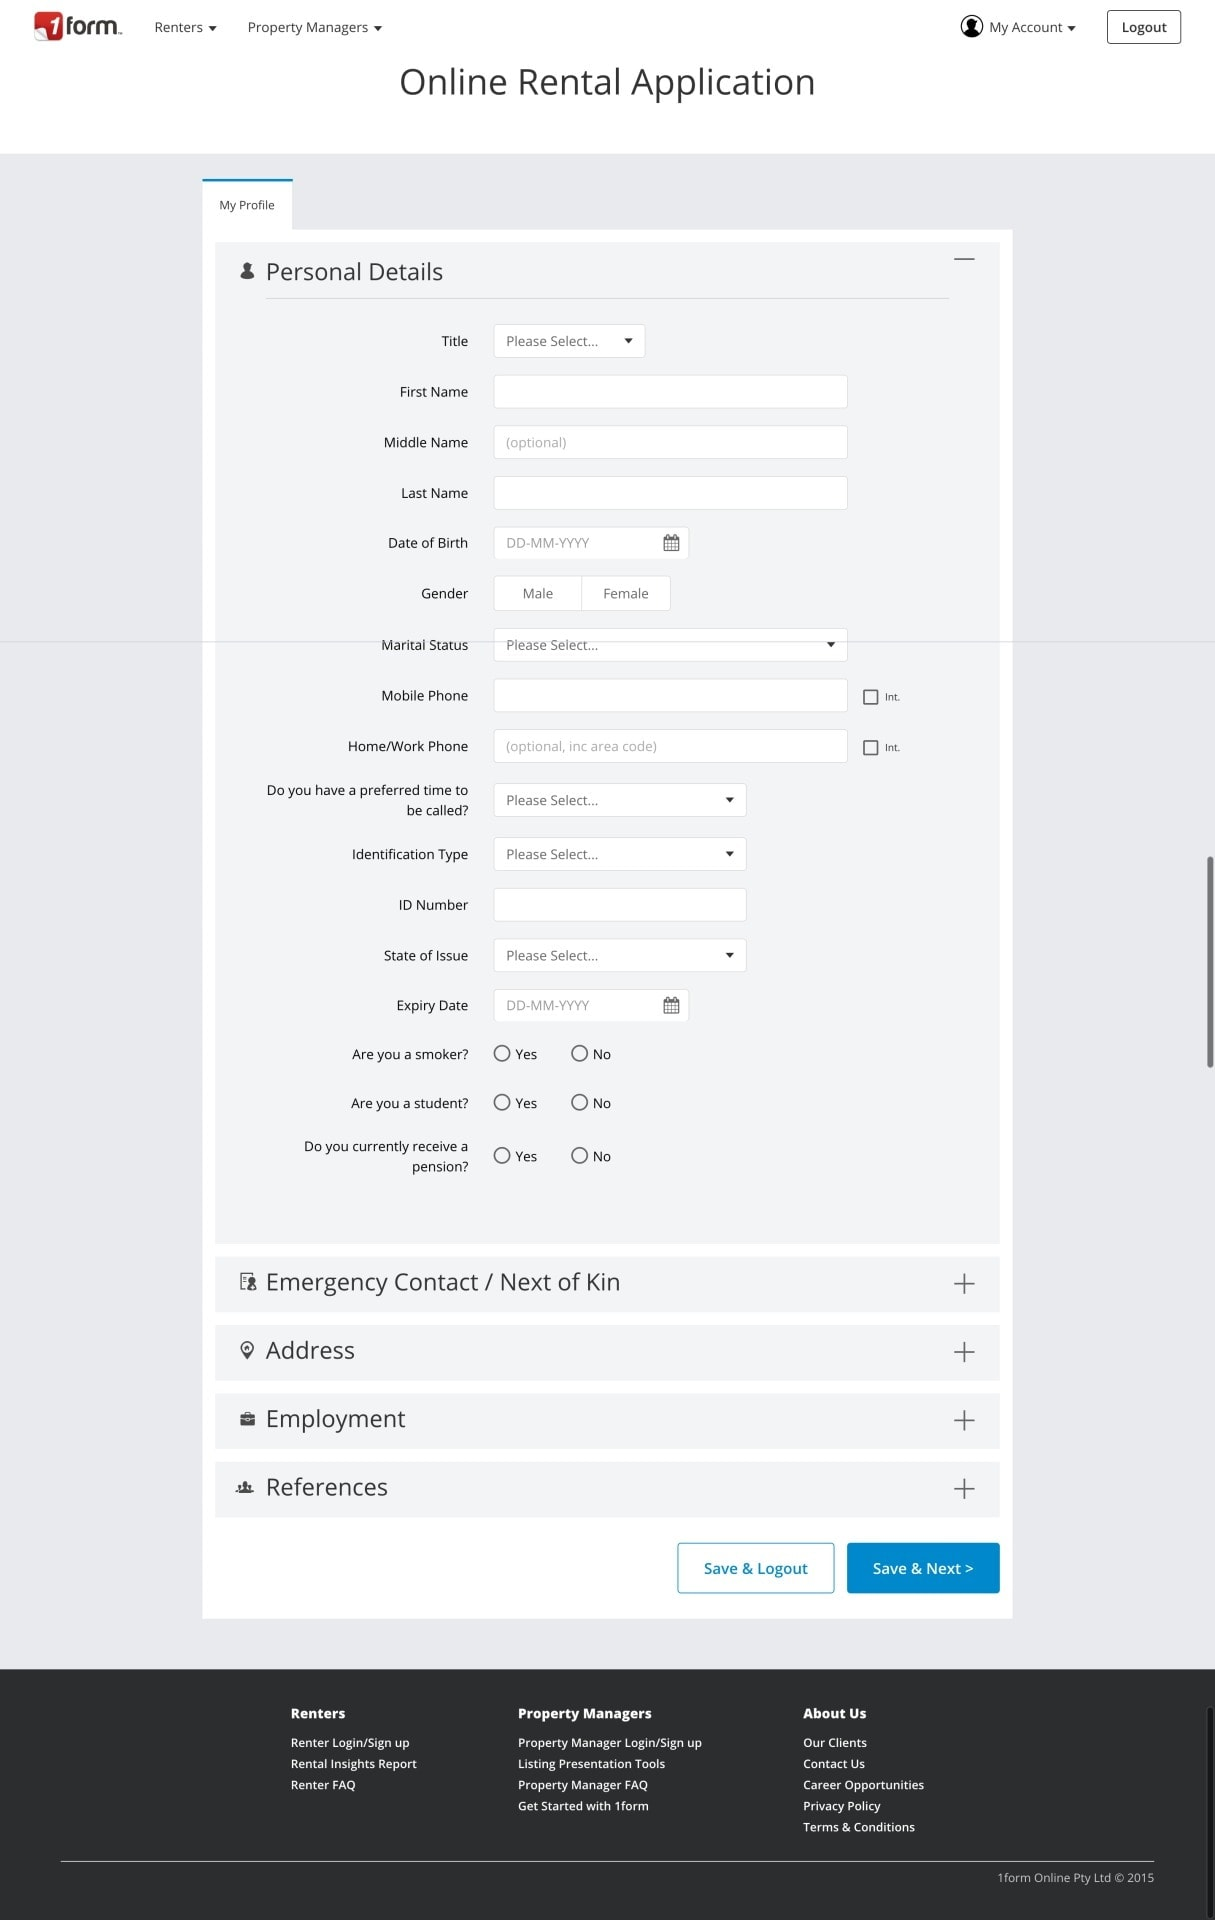_form_: (258, 722, 865, 1128), (258, 771, 763, 1183), (368, 305, 864, 719), (641, 1482, 1020, 1661)
button: (675, 1541, 836, 1595), (845, 1542, 1001, 1595), (582, 574, 676, 613), (493, 572, 585, 612)
checkbox: (862, 737, 885, 758), (861, 689, 882, 708)
field: (487, 423, 850, 459), (487, 728, 848, 764), (489, 474, 847, 511), (484, 677, 848, 712), (491, 628, 848, 662), (489, 376, 850, 409), (490, 889, 749, 925), (491, 938, 747, 973), (491, 784, 746, 819), (491, 837, 747, 870), (491, 987, 689, 1024), (487, 523, 689, 560), (493, 325, 645, 360)
field_with_label: (344, 726, 852, 767), (384, 418, 852, 460), (265, 779, 747, 820), (381, 675, 850, 714), (402, 473, 850, 514), (379, 626, 851, 663), (402, 374, 852, 411), (398, 884, 752, 928), (353, 834, 749, 872), (385, 936, 750, 974), (386, 521, 690, 563), (398, 985, 693, 1027), (442, 320, 647, 362), (421, 570, 585, 613)
radio: (491, 1044, 517, 1064), (568, 1044, 591, 1065), (493, 1146, 517, 1166), (568, 1092, 589, 1111), (570, 1146, 589, 1167), (494, 1093, 512, 1113)
radio_with_label: (487, 1041, 539, 1066), (490, 1143, 540, 1169), (566, 1041, 612, 1066), (566, 1089, 612, 1114), (566, 1143, 612, 1169), (489, 1092, 536, 1115)
